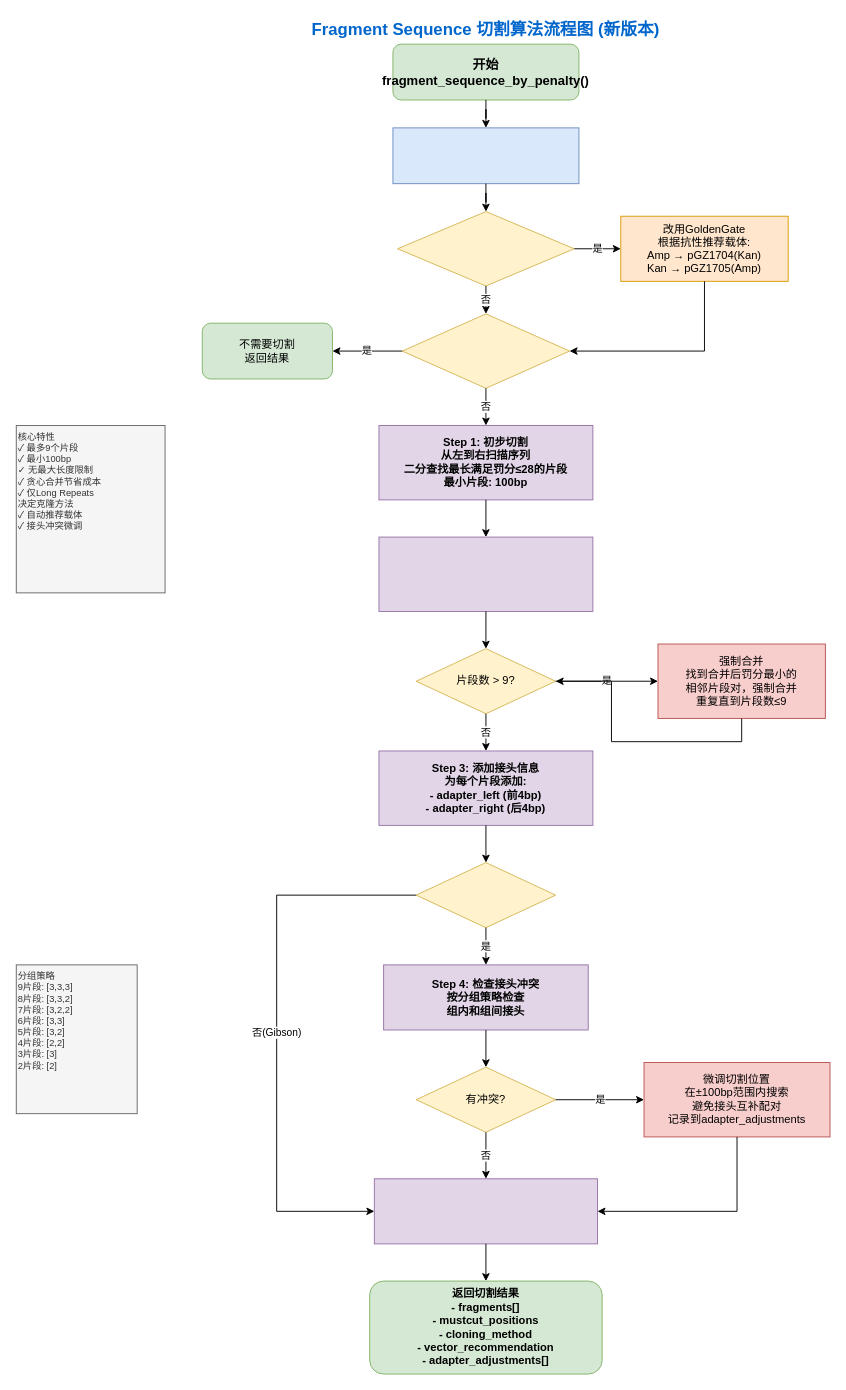
Some shapes in this 846 by 1390 pixel diagram are drawn without their labels. Here are the shapes that lost their labels. From the top down, the centre of each, then its label:
At point (485, 155): "计算整个序列的罚分 total_penalty long_repeats_penalty".
At point (485, 248): "Long Repeats > 28 && Gibson?".
At point (485, 350): "Total Penalty ≤ 28?".
At point (485, 573): "Step 2: 贪心合并 从左到右遍历初始片段 如果相邻片段合并后罚分≤28 则合并(节省成本)".
At point (485, 895): "GoldenGate/T4?".
At point (485, 1211): "Step 5: 生成MustCut位置 根据分组策略格式化 例: '1000/2000/3000\4000/5000/'".
